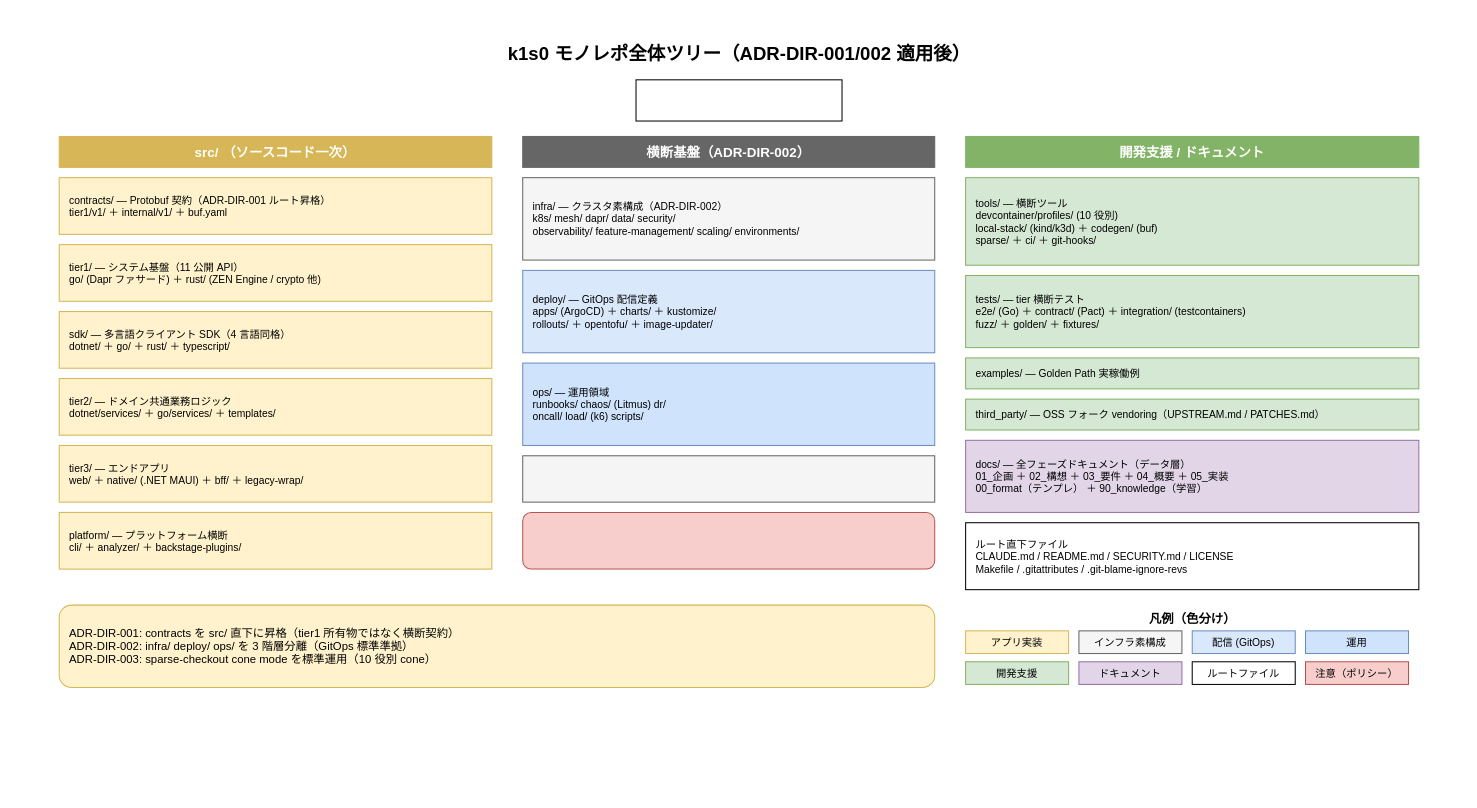
The diagram is 1477 pixels wide and 808 high, and some of its shapes have lost their labels. The shapes that lost their labels are listed below. From the top down, each one's box as (x1, y1, x2, y2) in pixels, then its label:
(635, 79, 842, 121): k1s0/
(522, 455, 935, 502): infra/environments/ — 環境差分 dev / staging / prod を Kustomize overlay
(522, 511, 935, 569): ★ tier1 所有物 → 横断基盤へ昇格 旧 src/tier1/infra/ を廃止し 3 階層に分離
